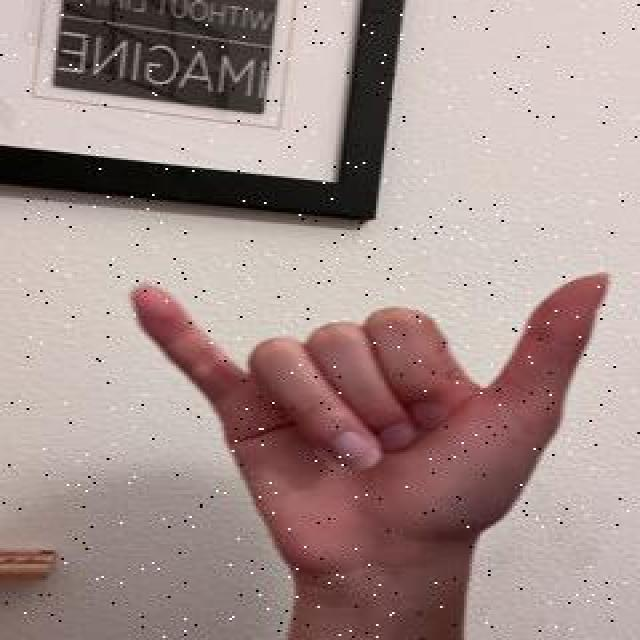Y: (123, 270, 616, 582)
